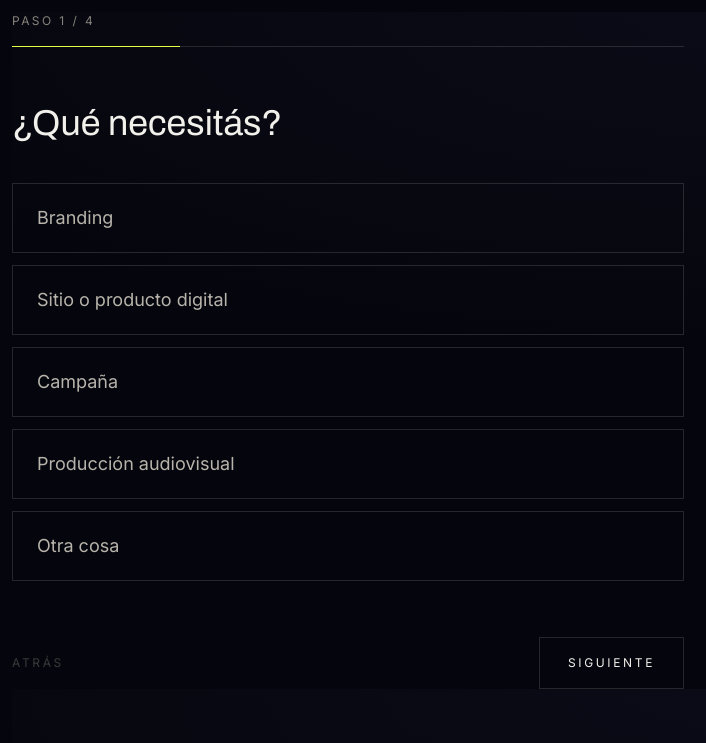
it: ContactForm › no avanza del paso 1 sin elegir tipo de proyecto
Click the button "Siguiente".
click(612, 663)  # box [539,637,684,689]
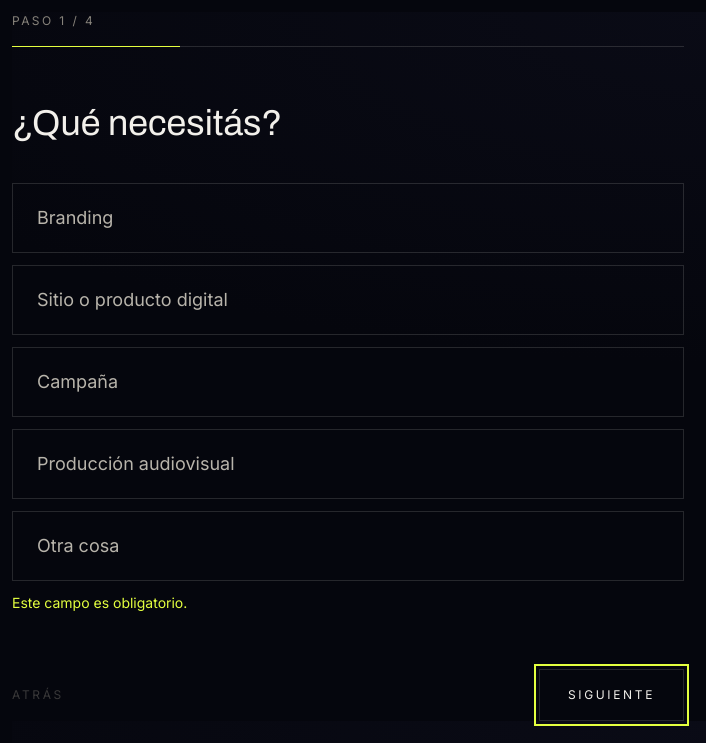
Expected: the message reads "Este campo es obligatorio.", [12,594,187,611]
